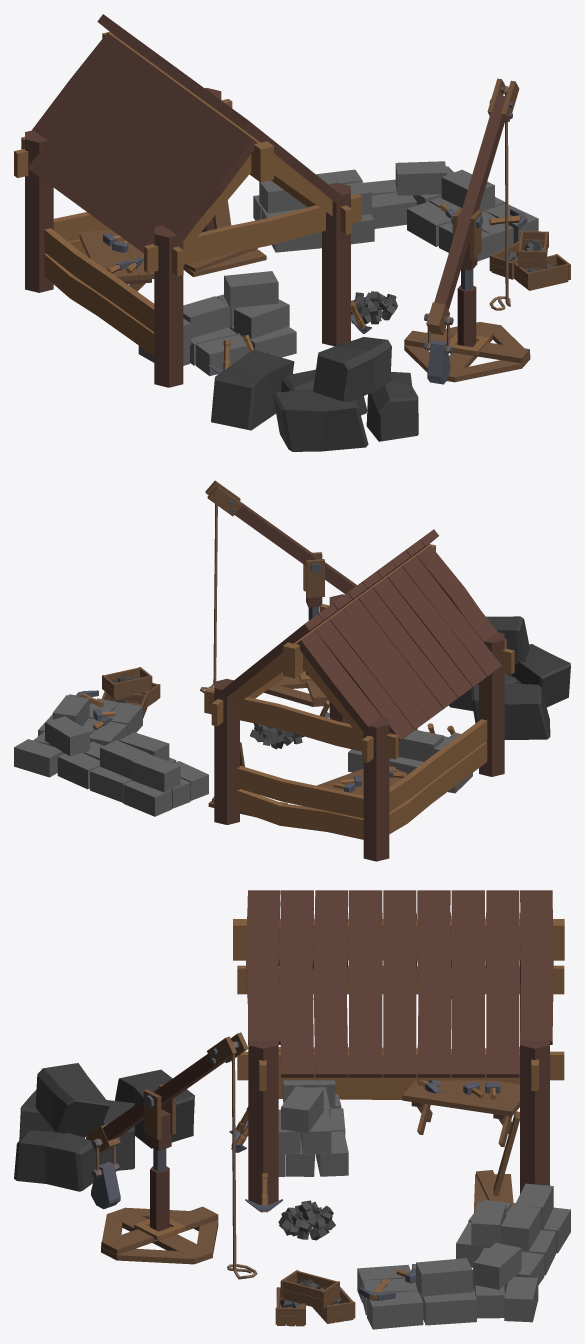
File: House_5.fbx
3 views of the same model, one above another, from view 1: azimuth 30°, elevation 25°; view 2: azimuth 150°, elevation 25°; view 3: azimuth 270°, elevation 25° (orthographic). The views are drawn at different scales.
Visible parts, largest first — view 1: mine; view 2: mine; view 3: mine.
Part boxes in pixels (box(x1,y1,x2,y2)): mine: box(14, 14, 570, 451); mine: box(14, 480, 570, 861); mine: box(14, 890, 570, 1329).
Size of the model in its own units: 448 by 246 by 463.
